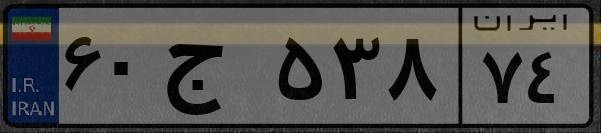0: (110, 28, 158, 98)
3: (330, 28, 385, 110)
4: (525, 38, 570, 115)
5: (270, 28, 330, 110)
6: (57, 26, 110, 100)
7: (475, 38, 525, 113)
8: (385, 28, 445, 110)
ج: (158, 20, 270, 120)
